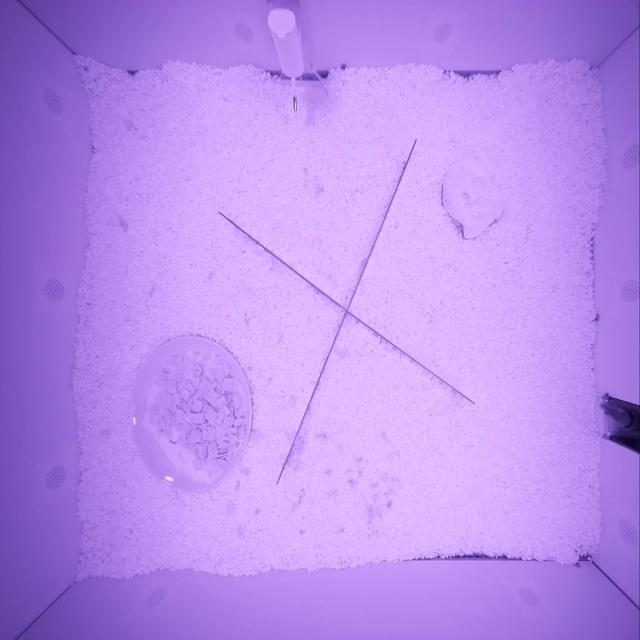pup_h_stripe: (600, 402, 640, 432)
